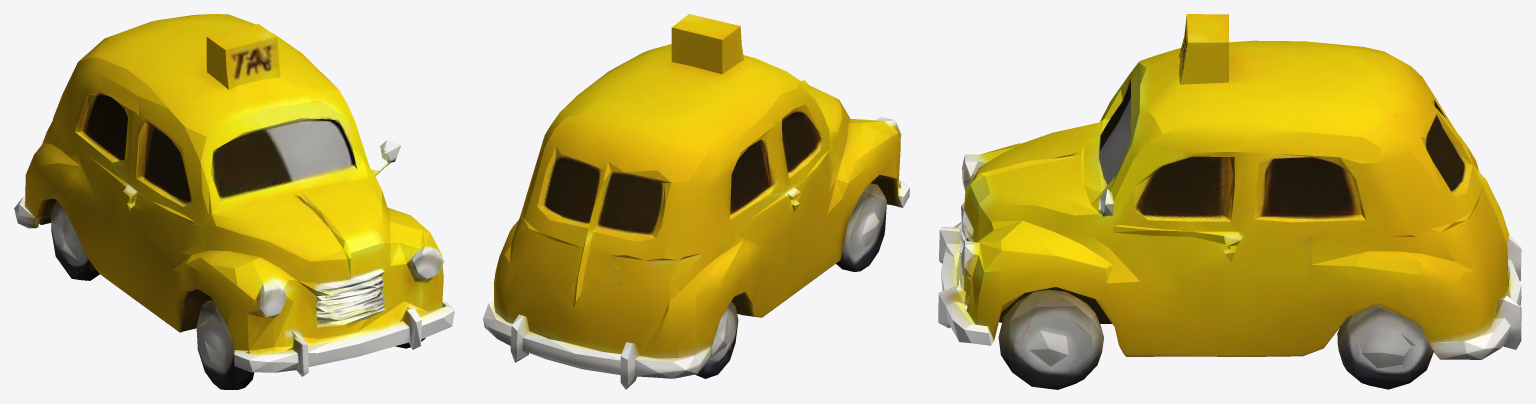
The model's file is taxi.glb.
The picture shows the model from 3 angles, left to right: view 1: azimuth 30°, elevation 25°; view 2: azimuth 150°, elevation 25°; view 3: azimuth 270°, elevation 25°; orthographic projection. The views are drawn at different scales.
Parts seen in each view (by area): view 1: model; view 2: model; view 3: model.
Part boxes in pixels (box(x1,y1,x2,y2)): model: box(14, 14, 454, 389); model: box(483, 14, 909, 389); model: box(938, 14, 1521, 389).
Size of the model in its own units: 0.9346 by 1.12 by 1.89.
1 material, 1 textured.
